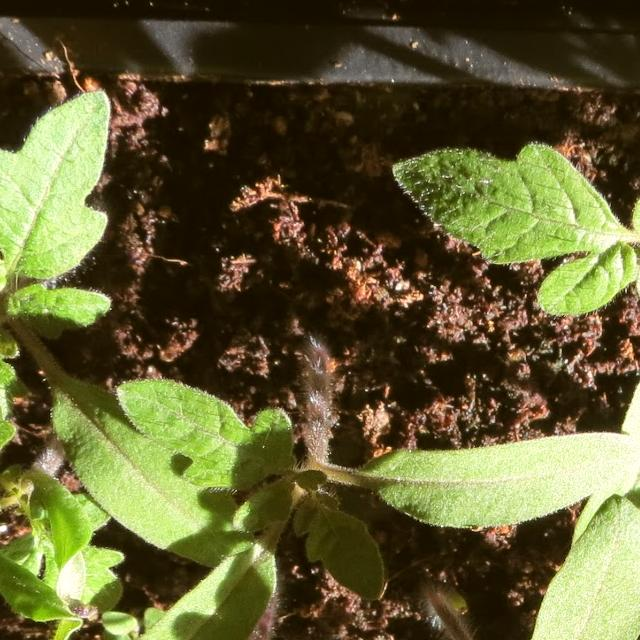Tomato leaf: (0, 70, 148, 340), (381, 101, 616, 268), (364, 421, 640, 533), (111, 505, 285, 640), (506, 494, 640, 640)
